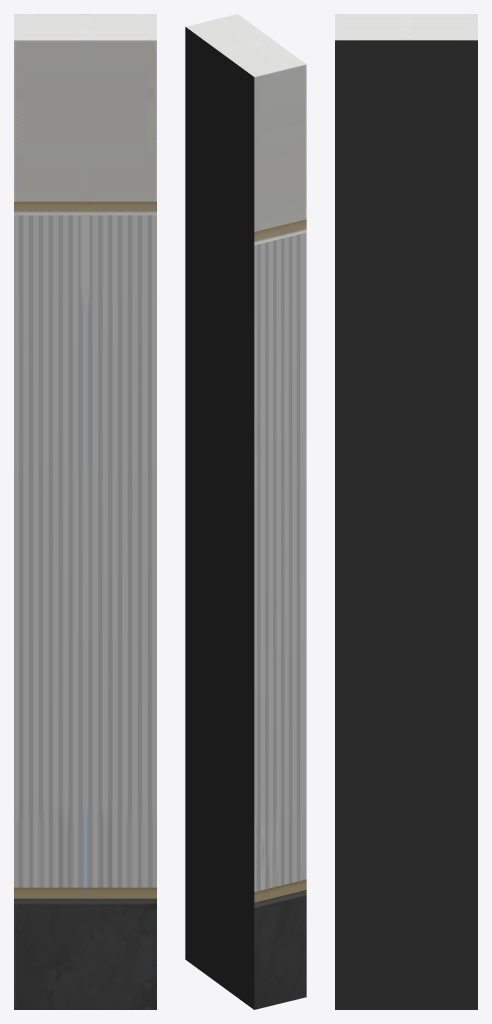
Rendered from my_shoppingmall_01_wallacc_02.glb.
3 views of the same model, side by side, from view 1: azimuth 90°, elevation 25°; view 2: azimuth 210°, elevation 25°; view 3: azimuth 270°, elevation 25° (orthographic). The views are drawn at different scales.
Parts seen in each view (by area): view 1: my_shoppingmall_01_wallacc_02; view 2: my_shoppingmall_01_wallacc_02; view 3: my_shoppingmall_01_wallacc_02.
Boxes of the visible parts, bbox=[...] form: my_shoppingmall_01_wallacc_02: bbox=[14, 14, 156, 1009]; my_shoppingmall_01_wallacc_02: bbox=[185, 14, 306, 1009]; my_shoppingmall_01_wallacc_02: bbox=[335, 14, 477, 1009].
Size of the model in its own units: 0.0026 by 0.0444 by 0.00593.
1 material, 1 textured.
